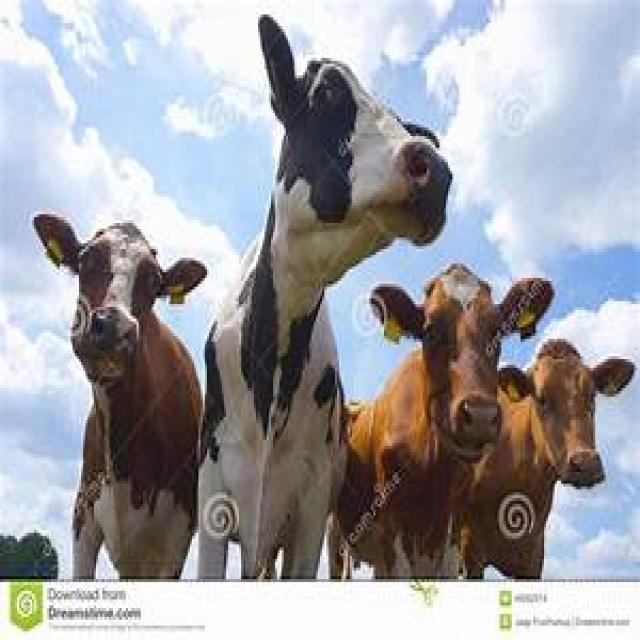animal: (203, 17, 453, 579), (330, 269, 555, 579), (35, 213, 200, 578), (458, 341, 635, 580)
